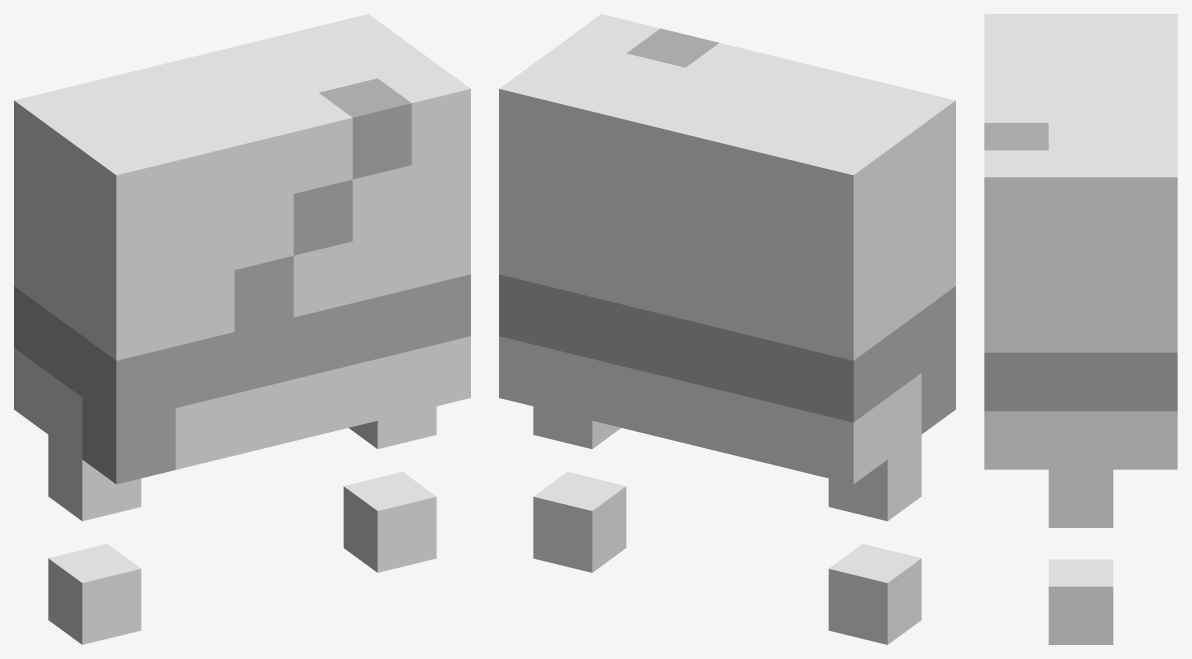
File: ModSmith-5.obj
The picture shows the model from 3 angles, left to right: view 1: azimuth 30°, elevation 25°; view 2: azimuth 150°, elevation 25°; view 3: azimuth 270°, elevation 25°; orthographic projection. The views are drawn at different scales.
Size of the model in its own units: 0.6 by 0.8 by 0.3.
Materials: 1 (1 with a texture image).
